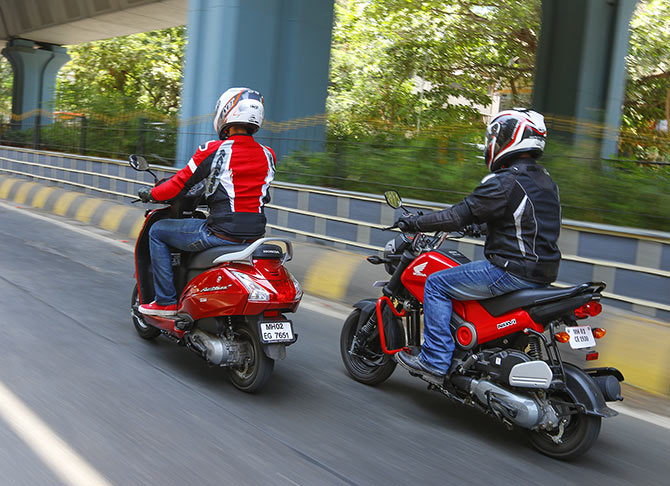with_helmet: (477, 108, 549, 165), (200, 87, 264, 128)
